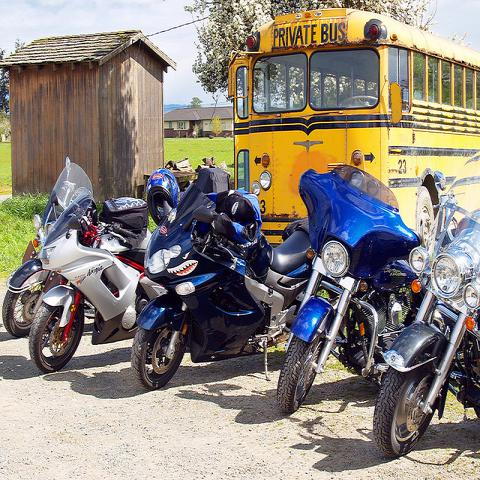bus: (230, 8, 480, 244)
motorcycle: (129, 183, 312, 394), (280, 164, 419, 414), (373, 154, 479, 459), (1, 160, 148, 340), (31, 190, 151, 376)
